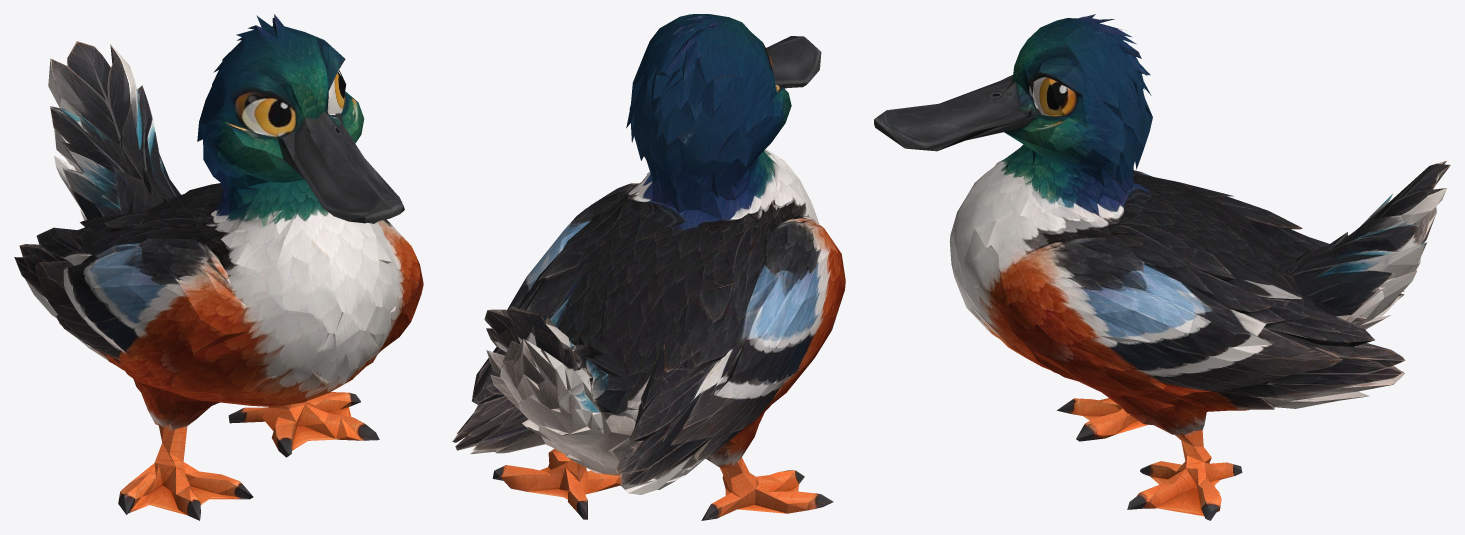
The model's file is duck-shoveler.glb.
3 views of the same model, side by side, from view 1: azimuth 30°, elevation 25°; view 2: azimuth 150°, elevation 25°; view 3: azimuth 270°, elevation 25° (orthographic). The views are drawn at different scales.
Size of the model in its own units: 0.3265 by 0.5 by 0.5948.
1 material, 1 textured.
